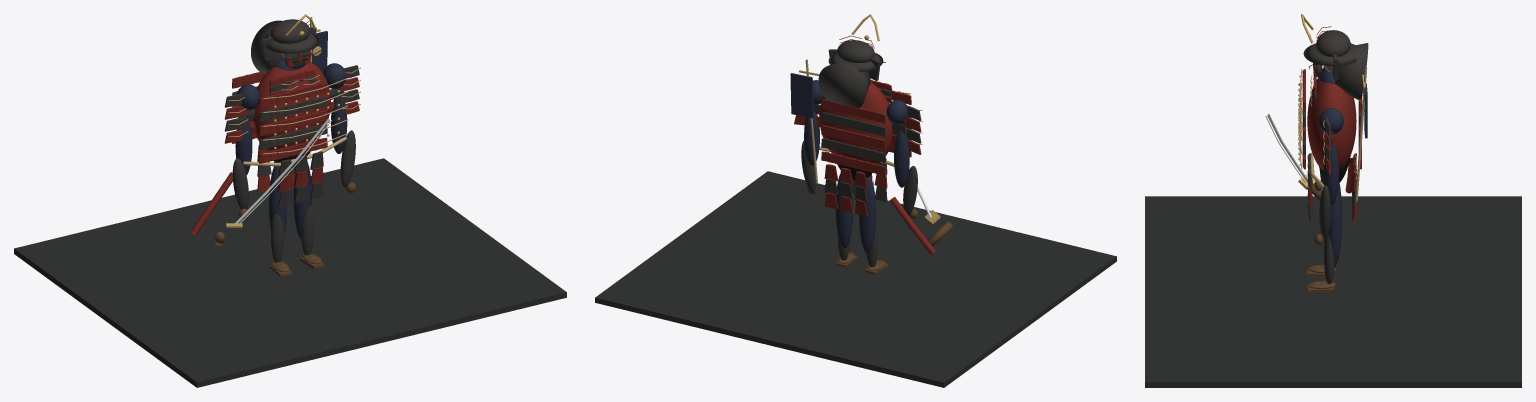
The model's file is actor-takeda-08.glb.
The picture shows the model from 3 angles, left to right: view 1: azimuth 30°, elevation 25°; view 2: azimuth 150°, elevation 25°; view 3: azimuth 270°, elevation 25°; orthographic projection. The views are drawn at different scales.
Visible parts, largest first — view 1: matte charcoal inspection plinth, rounded do cuirass silhouette, rear shikoro neck guard flare, segmented kabuto helmet bowl, right armored upper arm, right kote forearm guard, left kote forearm guard, wide kabuto brim, left hakama trouser leg, right hakama trouser leg, left armored upper arm, left shin greave (+2 smaller); view 2: matte charcoal inspection plinth, rear shikoro neck guard flare, rounded do cuirass silhouette, cloth sashimono banner panel, left hakama trouser leg, left armored upper arm, segmented kabuto helmet bowl, right hakama trouser leg, right armored upper arm, left kote forearm guard, lacquered saya scabbard at left hip; view 3: matte charcoal inspection plinth, rounded do cuirass silhouette, rear shikoro neck guard flare, segmented kabuto helmet bowl, right hakama trouser leg, wide kabuto brim, right armored upper arm, right kote forearm guard, right shoulder undercloth, right shin greave, bamboo sashimono back pole.
Boxes of the visible parts, bbox=[...] form: matte charcoal inspection plinth: bbox=[14, 158, 566, 387]; rounded do cuirass silhouette: bbox=[252, 62, 330, 151]; rear shikoro neck guard flare: bbox=[251, 20, 283, 74]; segmented kabuto helmet bowl: bbox=[270, 19, 310, 43]; right armored upper arm: bbox=[331, 93, 347, 153]; right kote forearm guard: bbox=[340, 130, 355, 187]; left kote forearm guard: bbox=[232, 158, 248, 209]; wide kabuto brim: bbox=[261, 33, 319, 53]; left hakama trouser leg: bbox=[269, 166, 287, 234]; right hakama trouser leg: bbox=[293, 163, 311, 239]; left armored upper arm: bbox=[235, 116, 252, 175]; left shin greave: bbox=[271, 213, 284, 262]; matte charcoal inspection plinth: bbox=[595, 171, 1116, 387]; rear shikoro neck guard flare: bbox=[818, 61, 870, 108]; rounded do cuirass silhouette: bbox=[819, 82, 893, 164]; cloth sashimono banner panel: bbox=[790, 73, 813, 118]; left hakama trouser leg: bbox=[859, 176, 876, 253]; left armored upper arm: bbox=[894, 130, 909, 187]; segmented kabuto helmet bowl: bbox=[837, 40, 874, 62]; right hakama trouser leg: bbox=[835, 173, 852, 248]; right armored upper arm: bbox=[804, 110, 819, 165]; left kote forearm guard: bbox=[903, 166, 917, 215]; lacquered saya scabbard at left hip: bbox=[889, 197, 935, 254]; matte charcoal inspection plinth: bbox=[1145, 196, 1521, 387]; rounded do cuirass silhouette: bbox=[1307, 76, 1356, 170]; rear shikoro neck guard flare: bbox=[1335, 43, 1368, 99]; segmented kabuto helmet bowl: bbox=[1316, 30, 1350, 56]; right hakama trouser leg: bbox=[1328, 189, 1341, 267]; wide kabuto brim: bbox=[1303, 43, 1356, 66]; right armored upper arm: bbox=[1323, 142, 1339, 204]; right kote forearm guard: bbox=[1319, 185, 1330, 238]; right shoulder undercloth: bbox=[1319, 108, 1343, 134]; right shin greave: bbox=[1324, 234, 1334, 283]; bamboo sashimono back pole: bbox=[1355, 68, 1367, 201].
Size of the model in its own units: 4.2 by 2.96 by 3.6.
